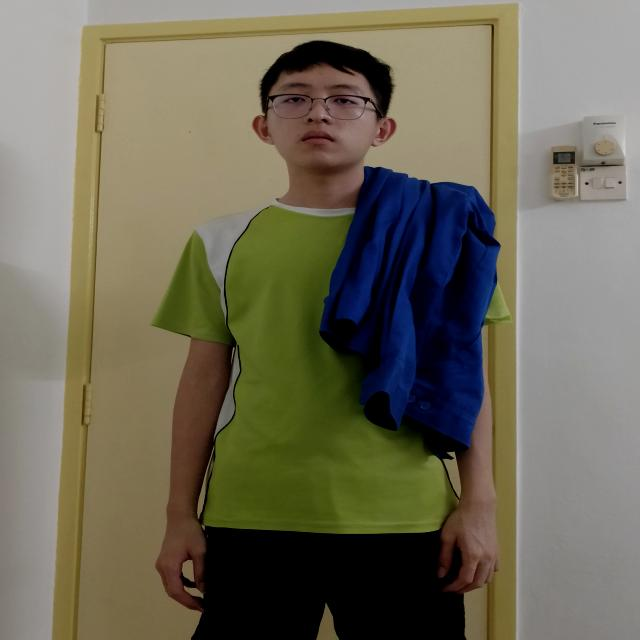person_without_labcoat: (152, 41, 510, 640)
